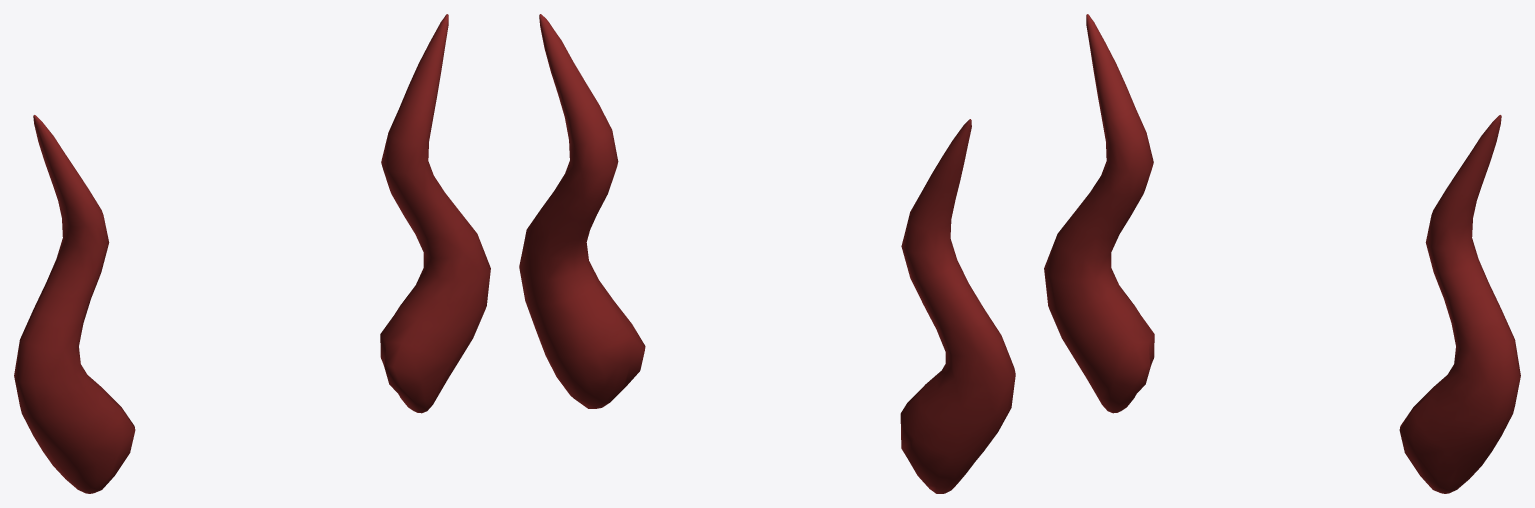
File: devil_horn4.fbx
The picture shows the model from 3 angles, left to right: view 1: azimuth 30°, elevation 25°; view 2: azimuth 150°, elevation 25°; view 3: azimuth 330°, elevation 25°; orthographic projection. The views are drawn at different scales.
Parts seen in each view (by area): view 1: horn4zremesh:polySurface1; view 2: horn4zremesh:polySurface1; view 3: horn4zremesh:polySurface1.
Part boxes in pixels (x1,y1,x2,y2): horn4zremesh:polySurface1: (14, 14, 490, 493); horn4zremesh:polySurface1: (519, 14, 1015, 493); horn4zremesh:polySurface1: (1044, 14, 1520, 493).
Bounding box in the file's own units: 2.05 × 1.58 × 0.2914.
